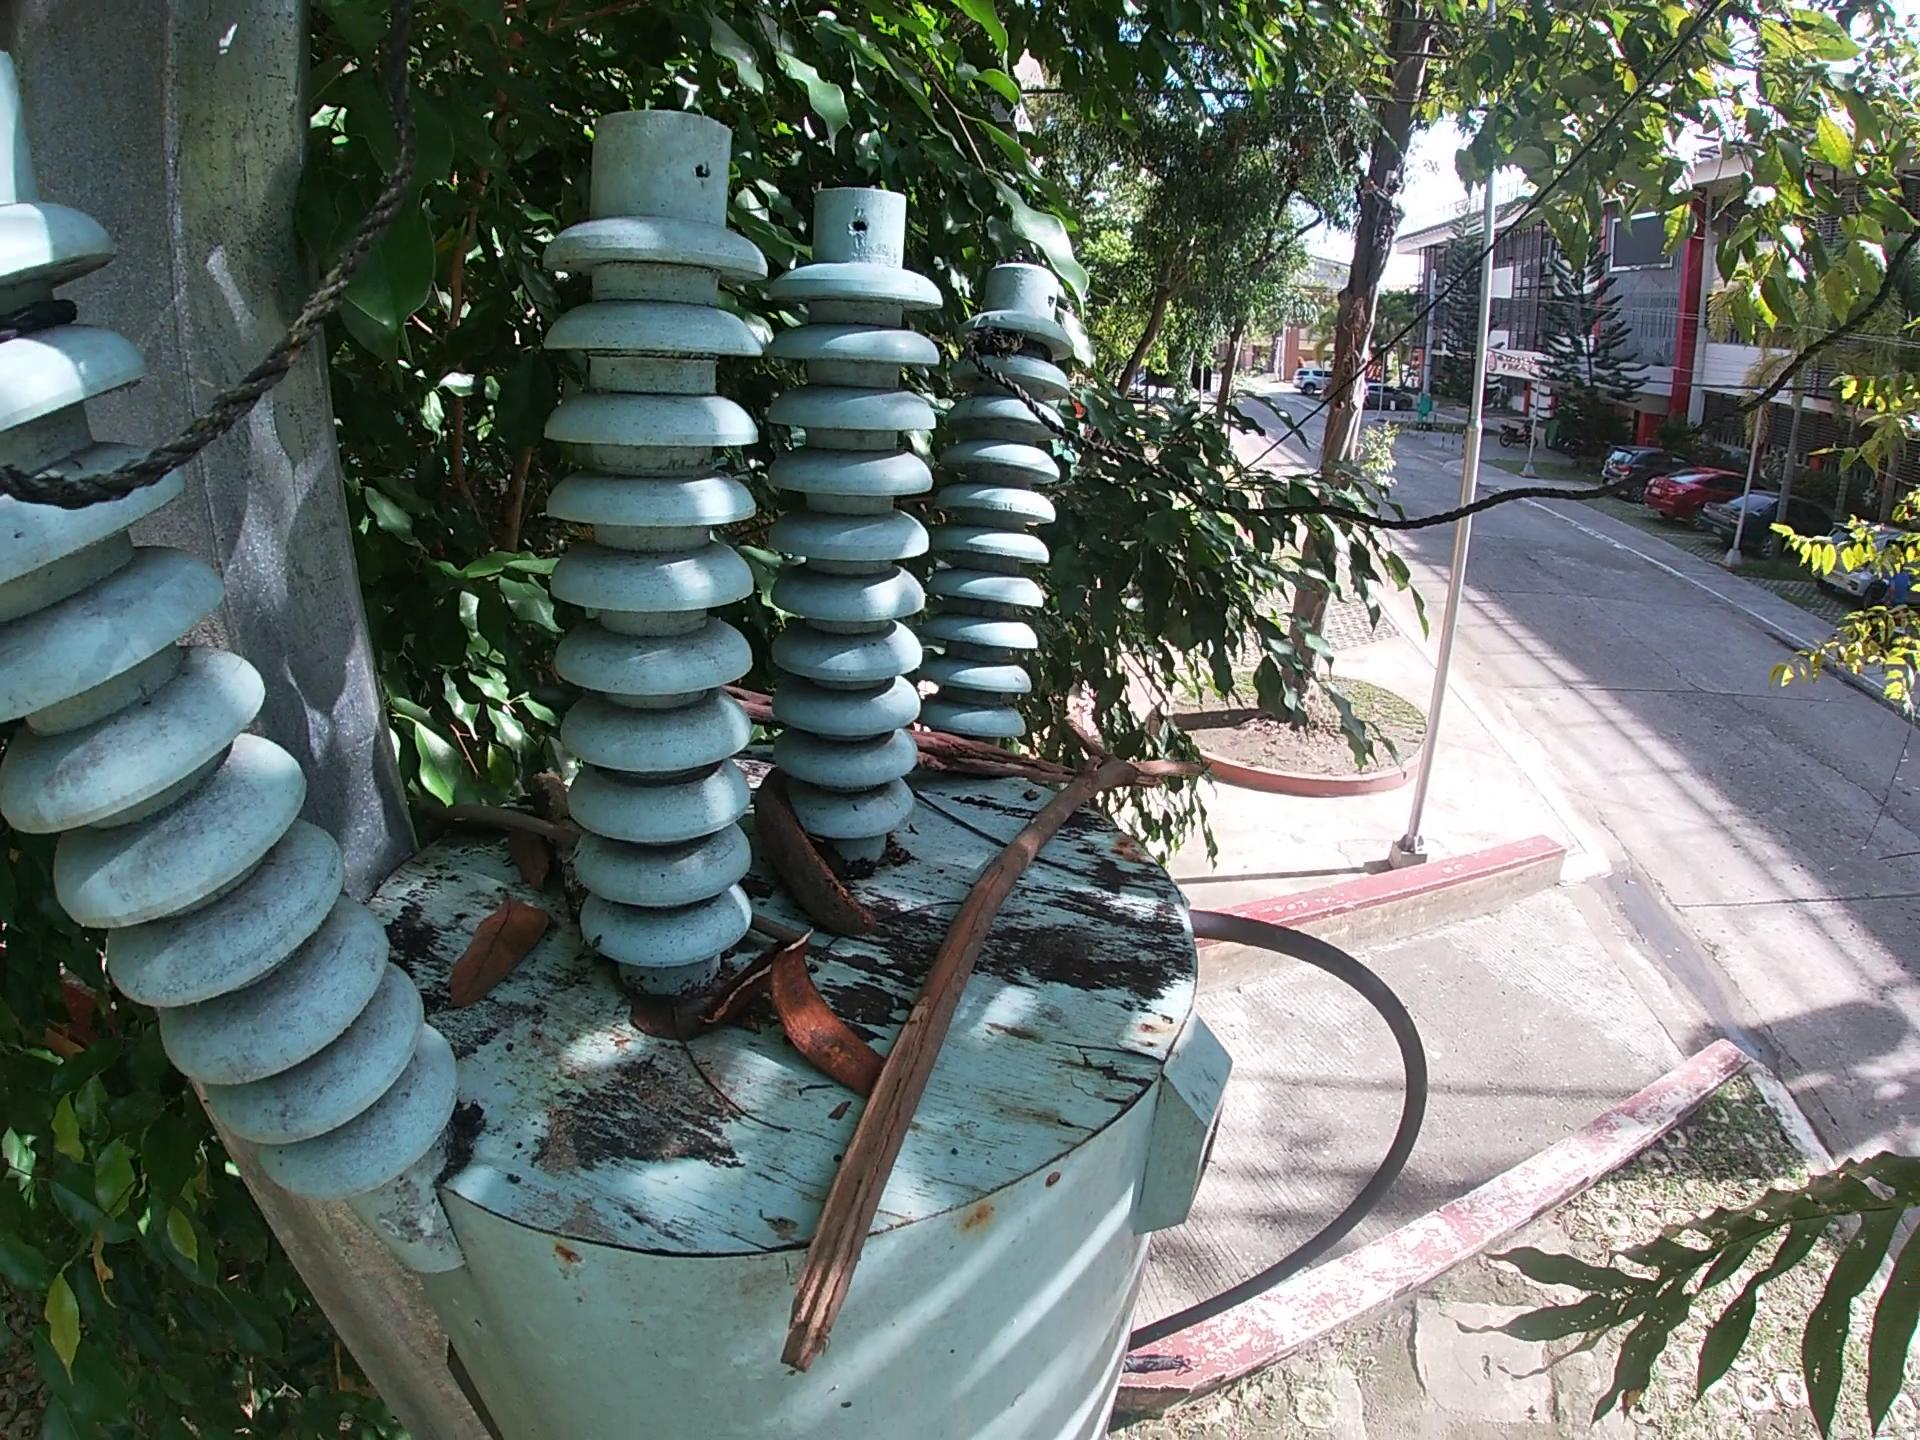leaf: (434, 882, 546, 1000), (615, 986, 718, 1044), (502, 830, 552, 892)
mahogany fruit: (754, 790, 884, 942), (766, 930, 877, 1097)
tree branch: (759, 697, 1219, 1340), (701, 930, 821, 1042), (906, 732, 1084, 793), (529, 762, 588, 906), (679, 1038, 748, 1125), (1036, 855, 1144, 898), (918, 793, 1007, 846), (434, 809, 574, 843), (757, 920, 860, 961), (718, 687, 768, 731)
